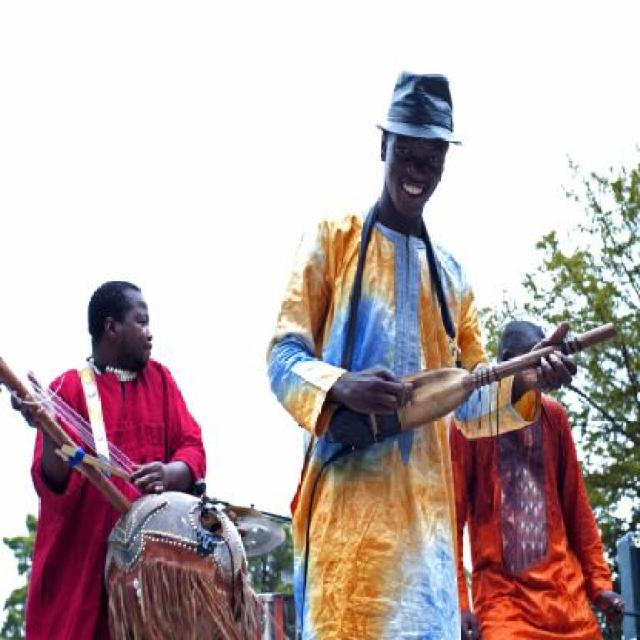obstacle: (302, 83, 522, 626), (32, 277, 206, 640), (450, 318, 625, 640)
